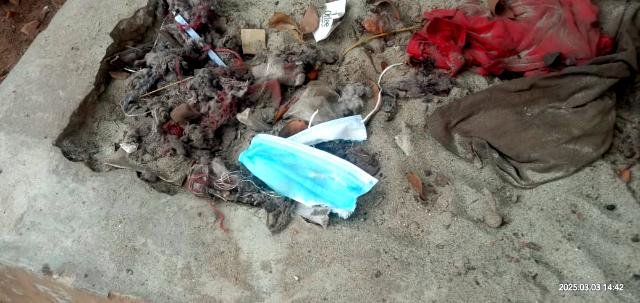mask: (239, 105, 380, 234)
